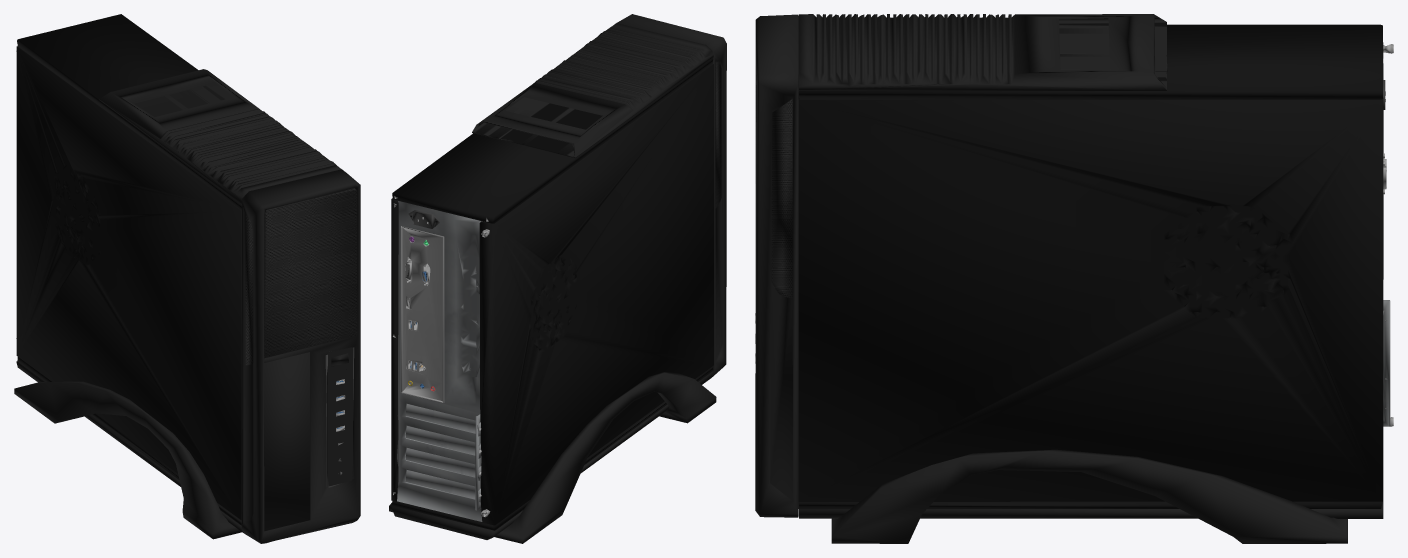
File: desktop-pc.glb
The picture shows the model from 3 angles, left to right: view 1: azimuth 30°, elevation 25°; view 2: azimuth 150°, elevation 25°; view 3: azimuth 270°, elevation 25°; orthographic projection. The views are drawn at different scales.
Visible parts, largest first — view 1: sm_computer_desktop_a01_mesh_00; view 2: sm_computer_desktop_a01_mesh_00; view 3: sm_computer_desktop_a01_mesh_00.
Boxes of the visible parts, x1,y1,x2,y2 form: sm_computer_desktop_a01_mesh_00: [14, 14, 360, 543]; sm_computer_desktop_a01_mesh_00: [389, 14, 726, 543]; sm_computer_desktop_a01_mesh_00: [755, 14, 1393, 543].
Size of the model in its own units: 0.2 by 0.49 by 0.62.
14 materials, 7 textured.
